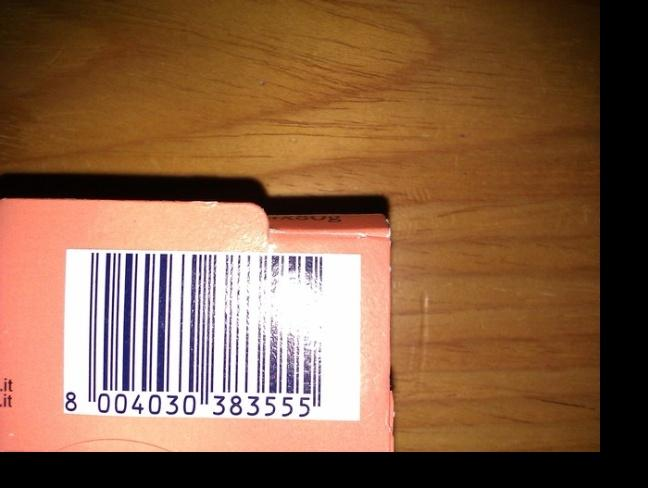Barcode: (62, 249, 362, 422)
